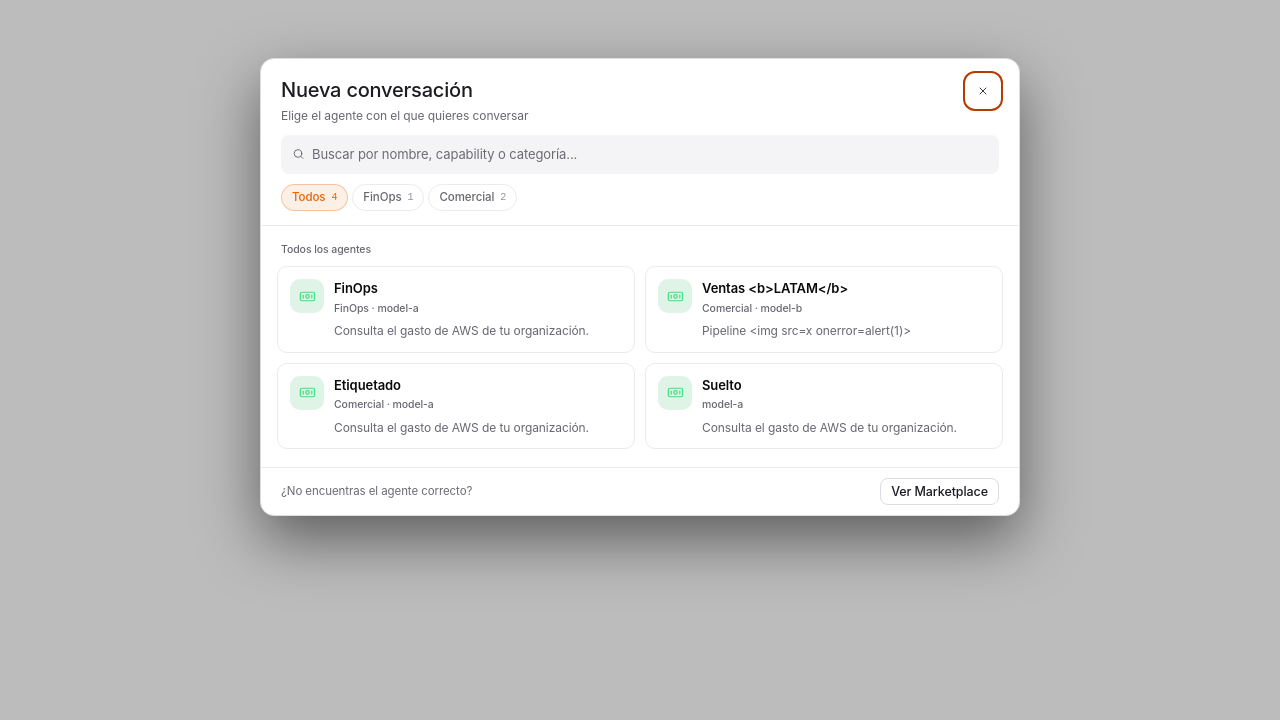
it: AgentPicker › filters by category, with counts
Click the button "Comercial 2": point(473, 198) x1=428 y1=184 x2=517 y2=211
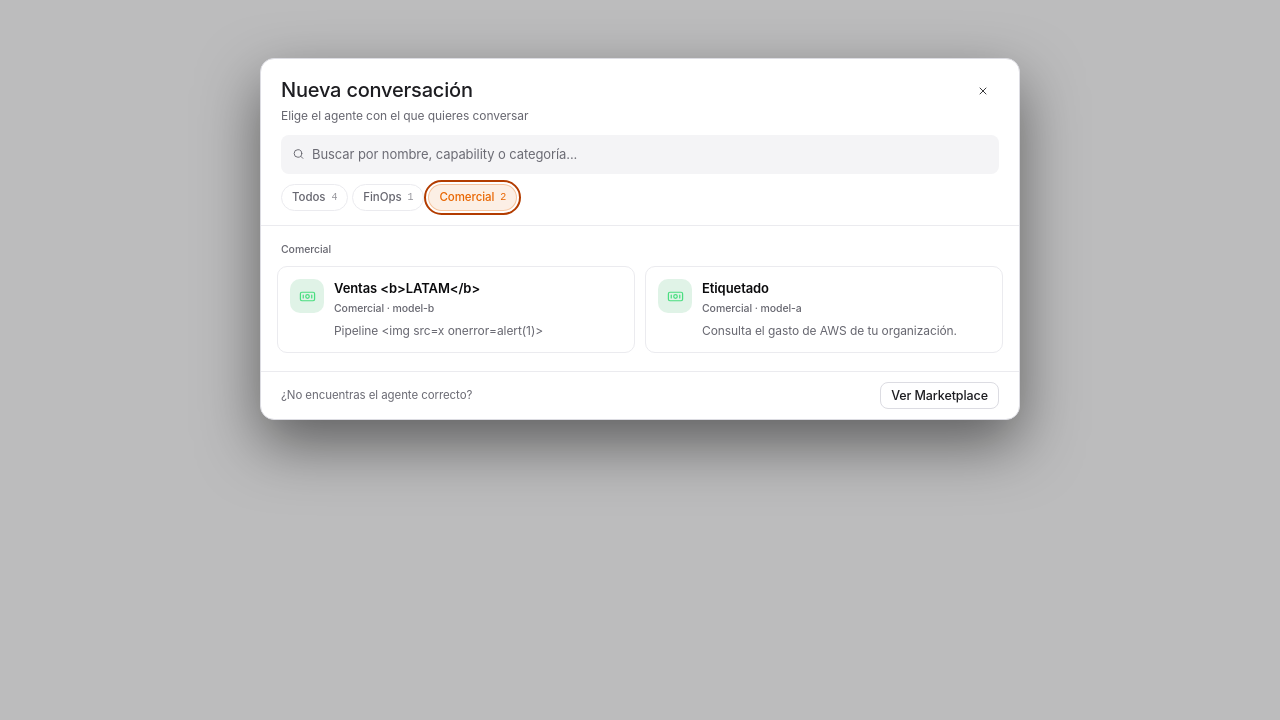
Result: the heading "Comercial" is shown at x1=281 y1=243 x2=331 y2=256
